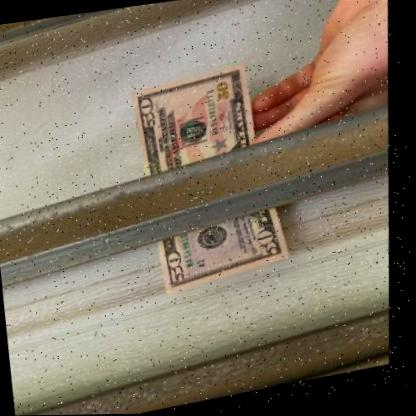fifty-front: (131, 65, 296, 295)
